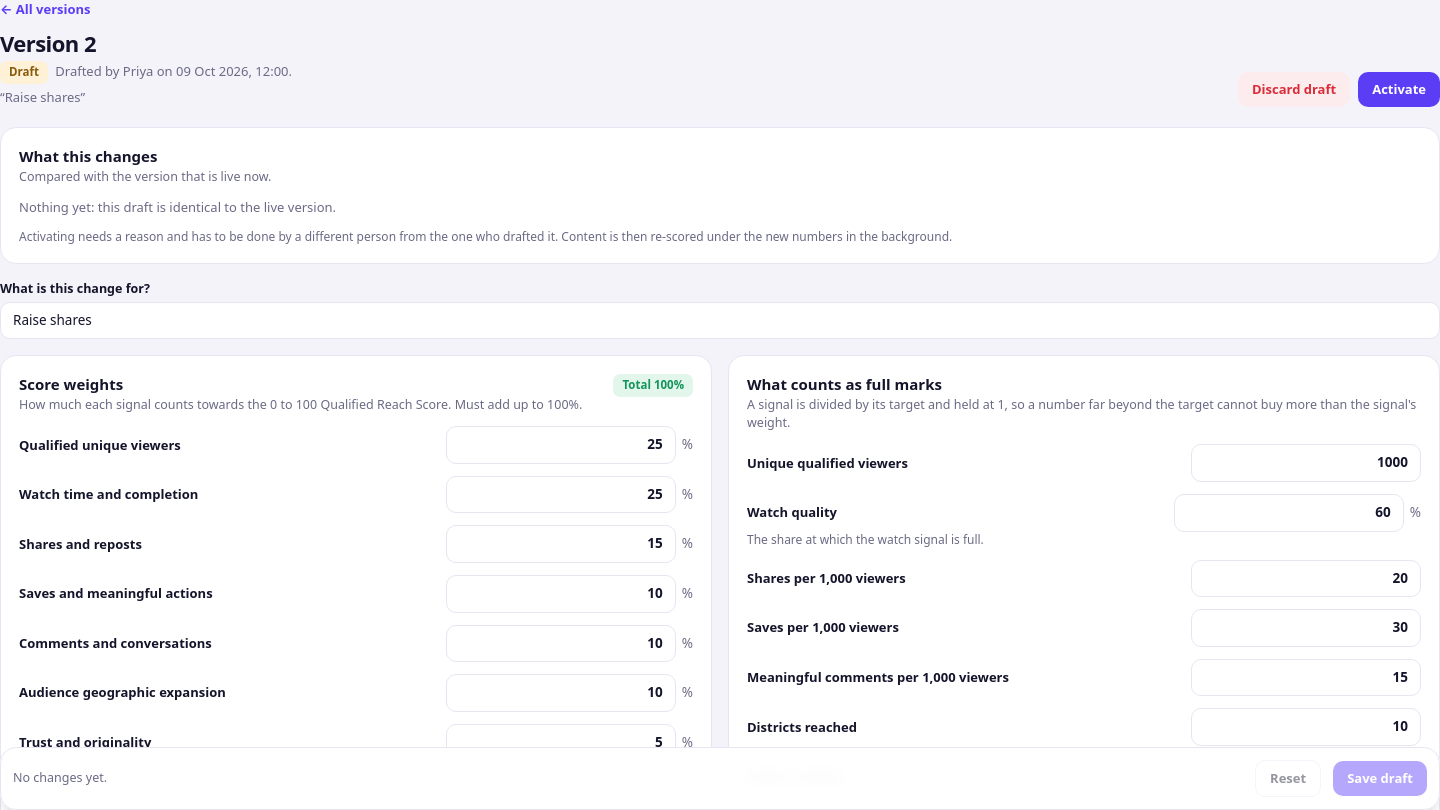
Scenario: a Reach settings draft › cannot be activated by the person who drafted it: the API's own words reach the screen
Click the button "Activate": coordinates (1399, 90) 1358,72 -> 1439,107
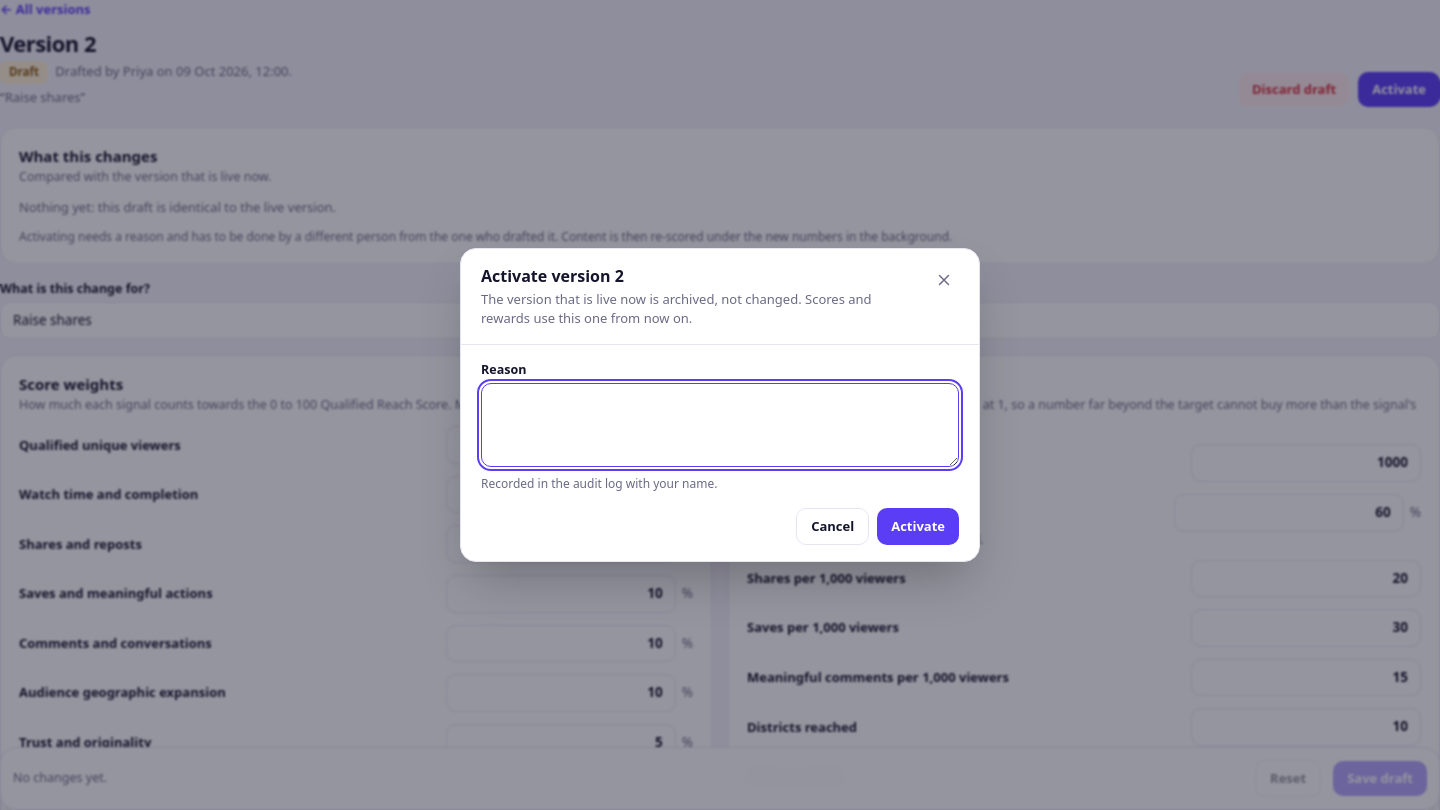
In the text box labelled "Reason": coordinates (720, 425) 481,383 -> 959,467, type "Testing the four-eyes rule"
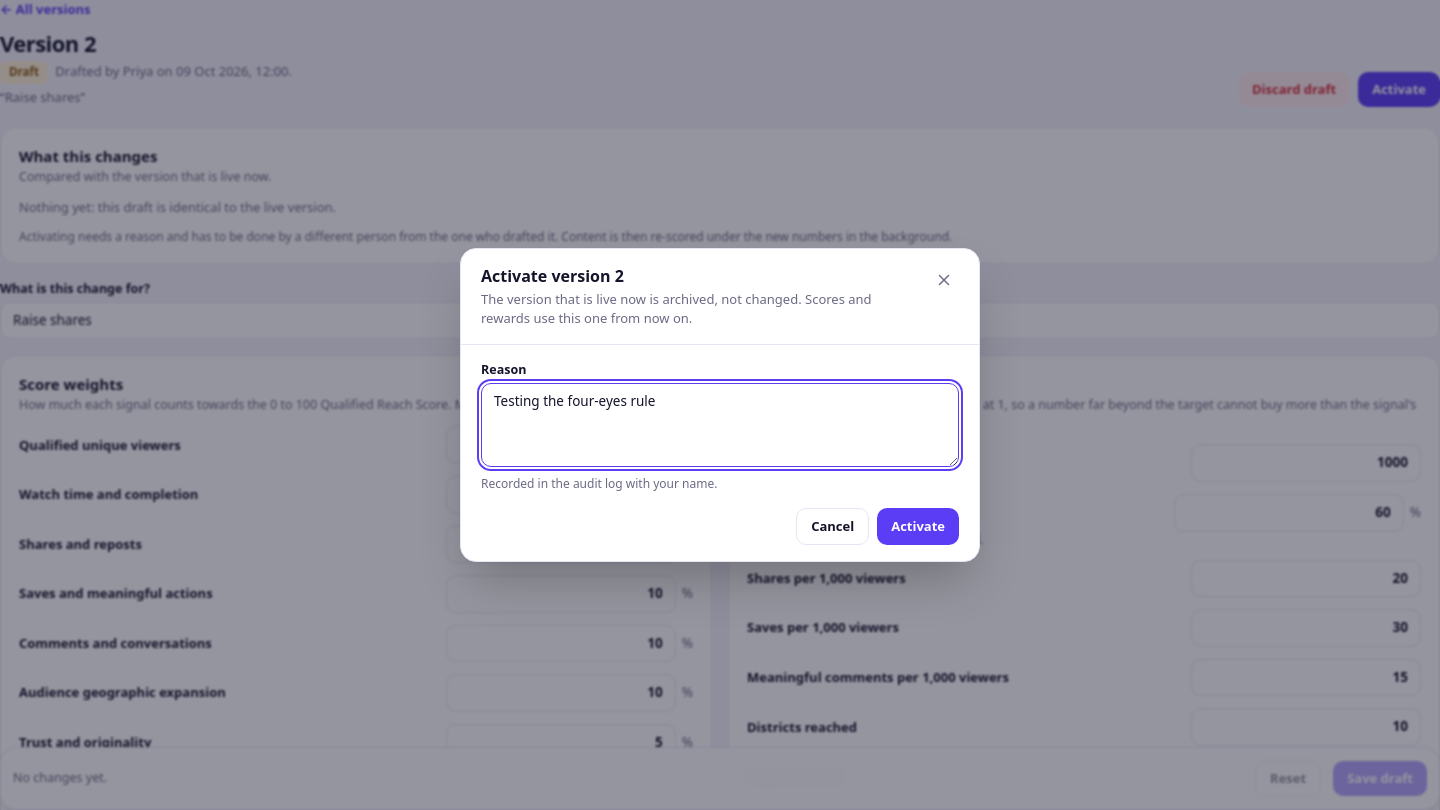
Click the button "Activate": coordinates (918, 527) 877,508 -> 959,545
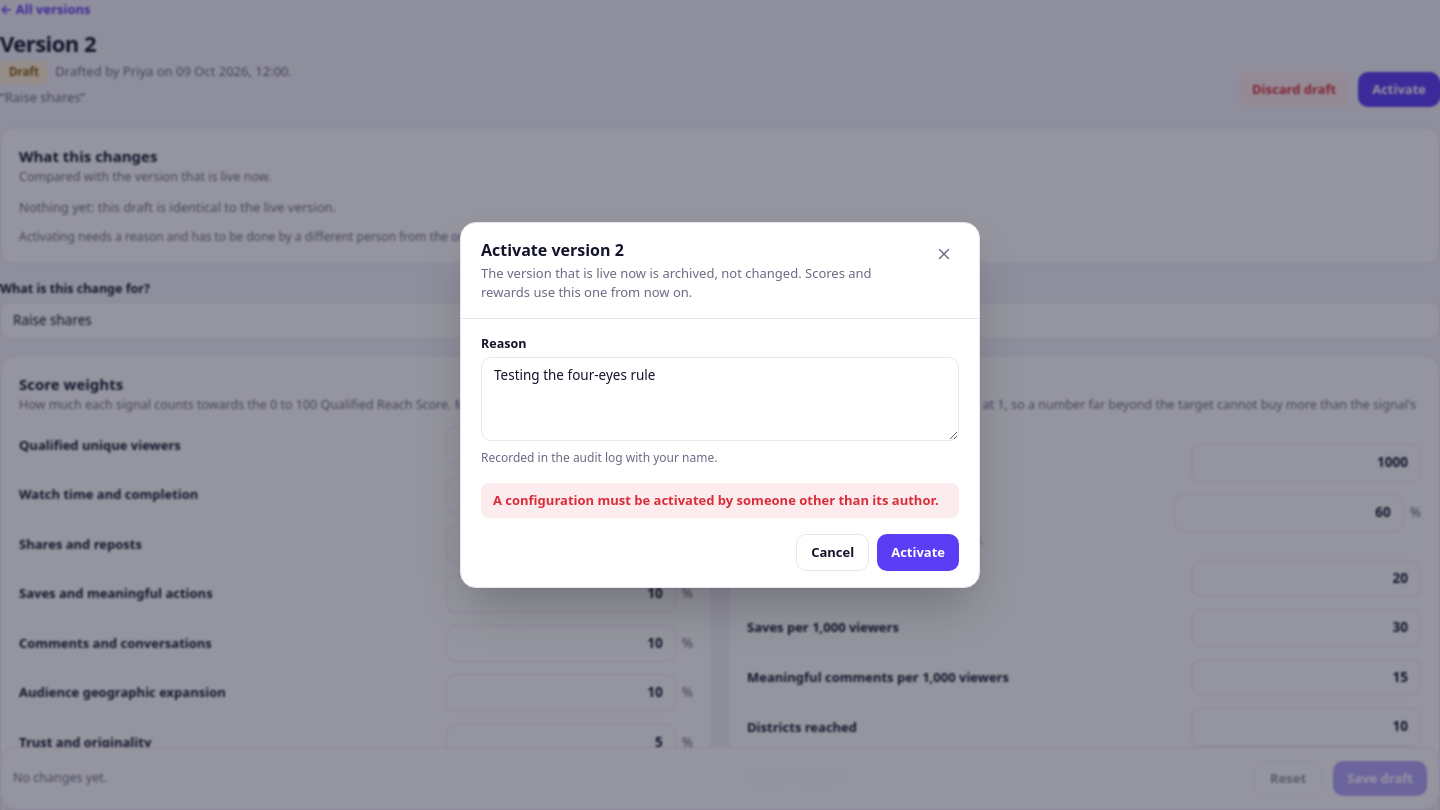
expect the text "A configuration must be activated by someone other than its author." is shown: met, box 481,483 -> 959,518
